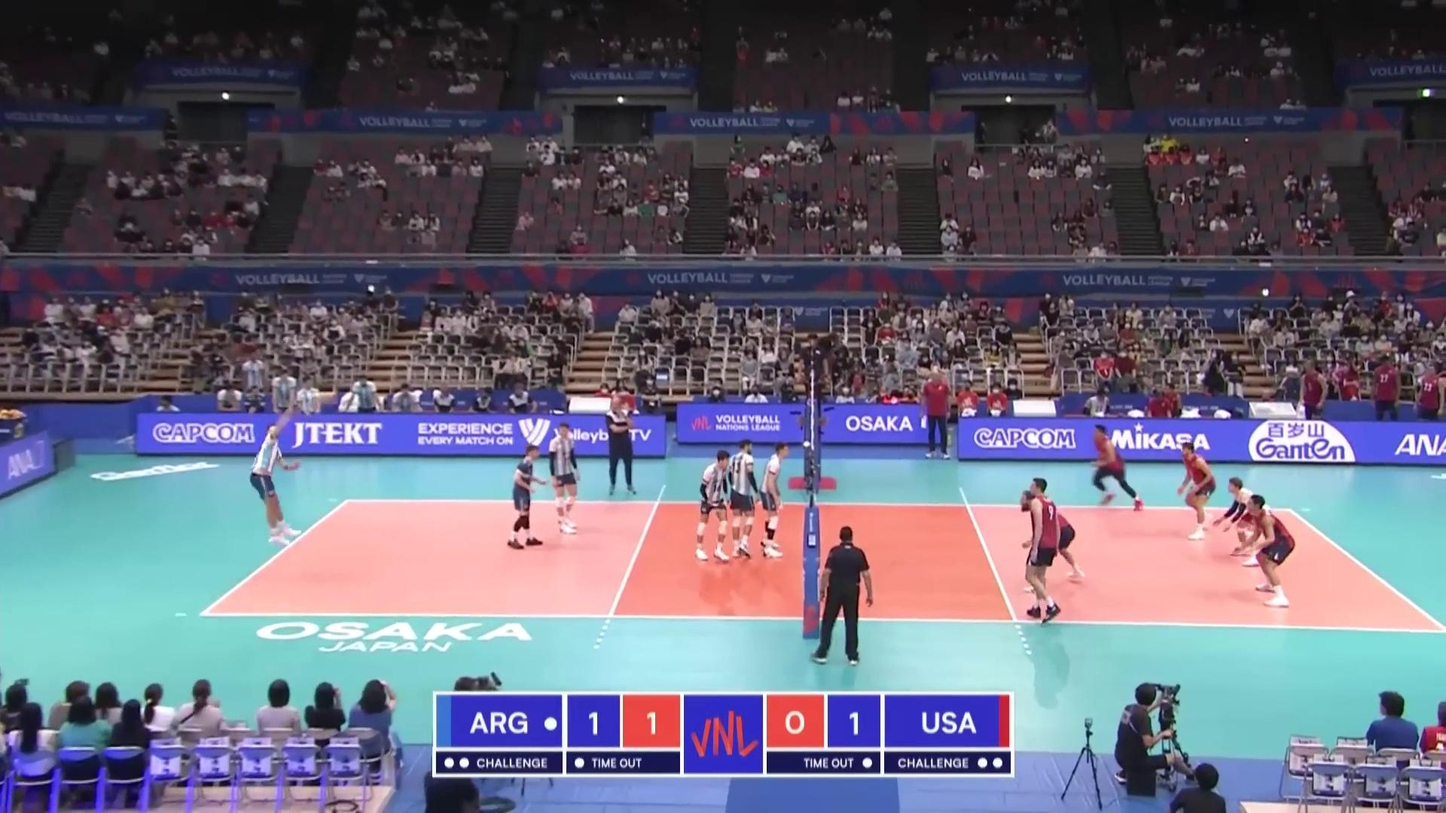player: (1015, 490, 1086, 589), (247, 417, 300, 544), (1245, 495, 1297, 609), (1023, 479, 1059, 627), (1222, 474, 1271, 567), (1090, 426, 1143, 511), (693, 450, 730, 563), (1178, 439, 1216, 540), (547, 423, 581, 535), (508, 446, 544, 548), (759, 444, 790, 561), (728, 441, 756, 561)
refree: (816, 528, 870, 668), (801, 336, 828, 422)
